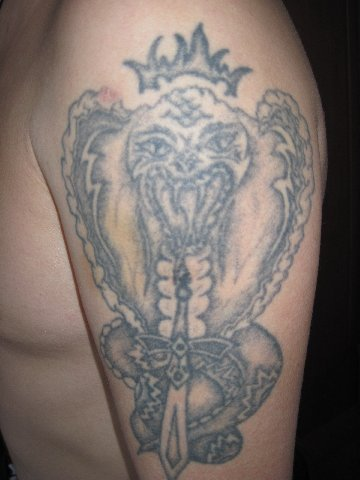tatu7_zmeya: (61, 64, 313, 468)
